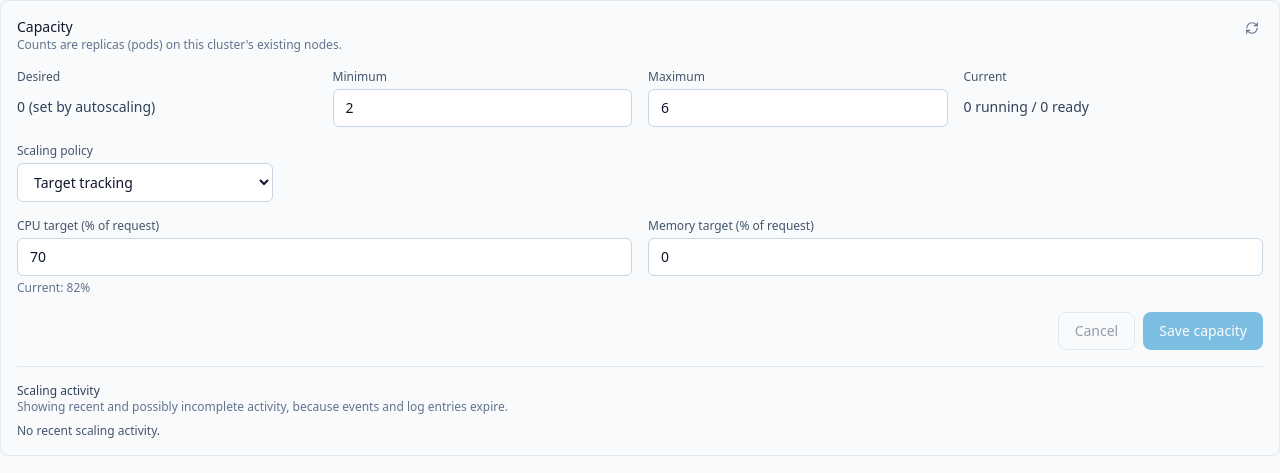
Test: AppCapacityPanel › still refuses an edited desired count outside the bounds when switching tracking off
This screenshot has width=1280, height=473.
Select "None (fixed count)" in the dropdown labelled "Scaling policy": (145, 182) [17, 163, 273, 202]
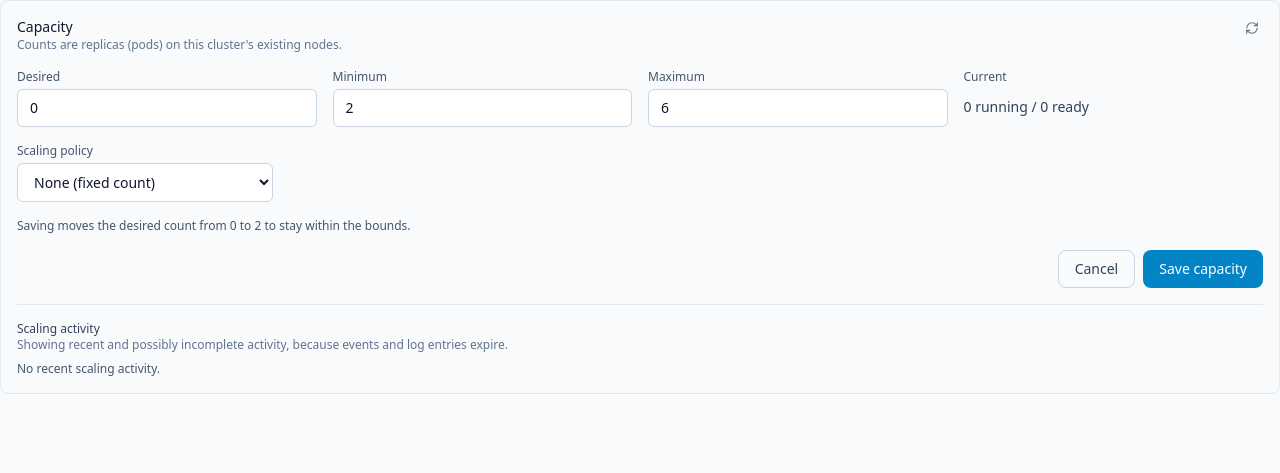
Replace the text in the number field labelled "Desired" with "9": (167, 108) [17, 89, 316, 127]
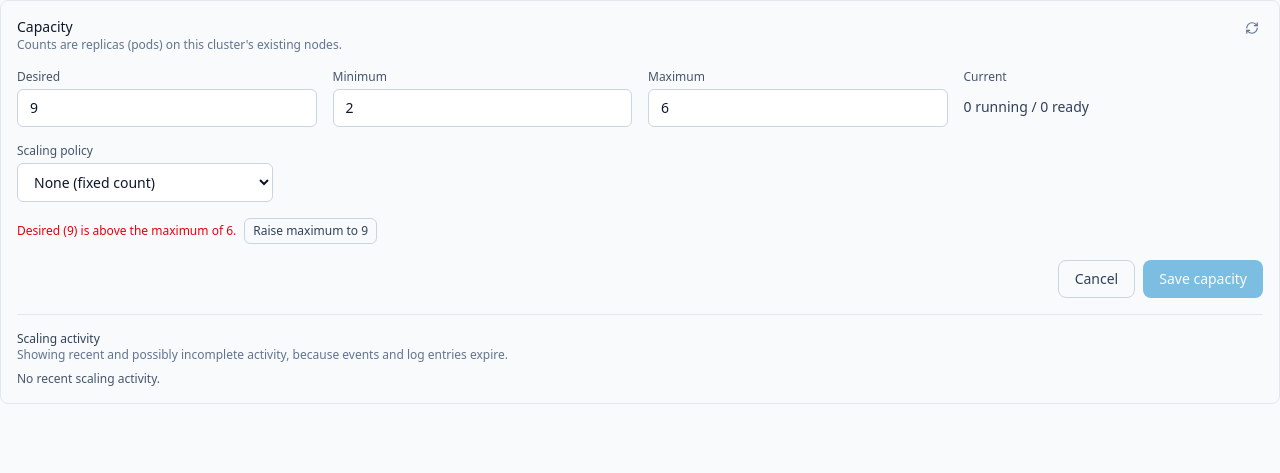
Expected: the button with test id "capacity-save" is disabled, [1143, 260, 1263, 298]
